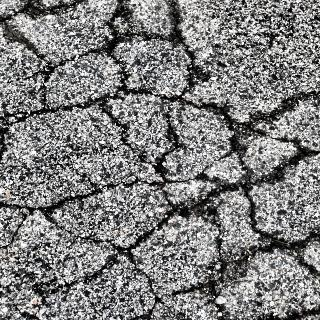crack: (4, 4, 316, 318)
